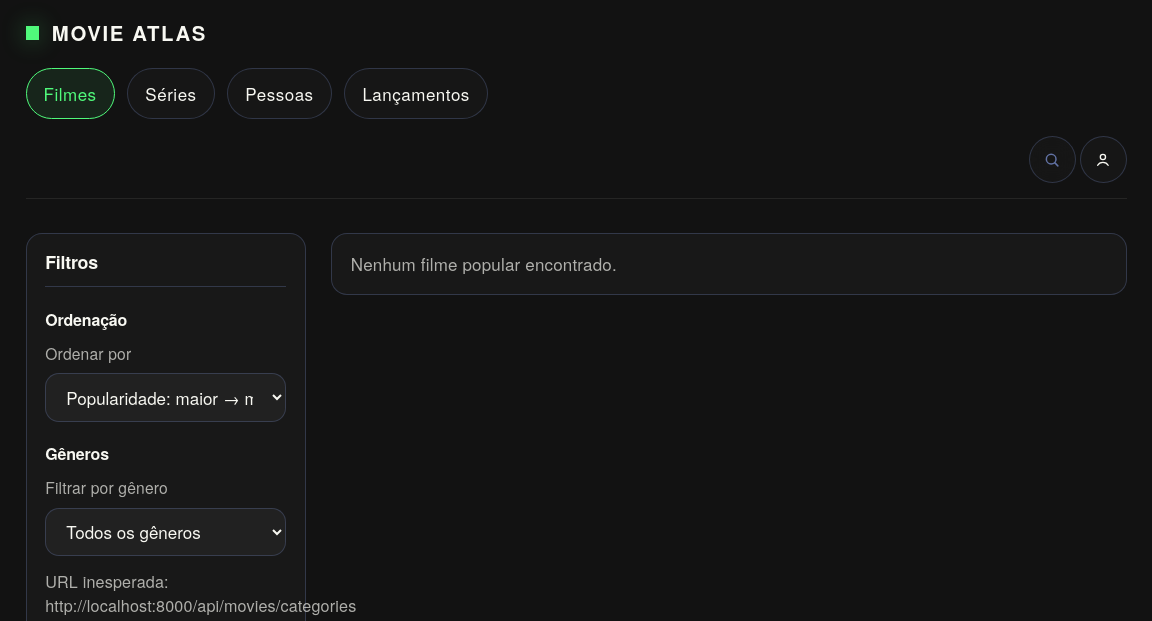
Scenario: App routes › logs in, loads the current user and allows sending verification email
The width and height of the screenshot is (1152, 621).
(page scrolled)
Click the button named "entrar ou criar conta" at (1103,160), box [1080,136,1127,183]
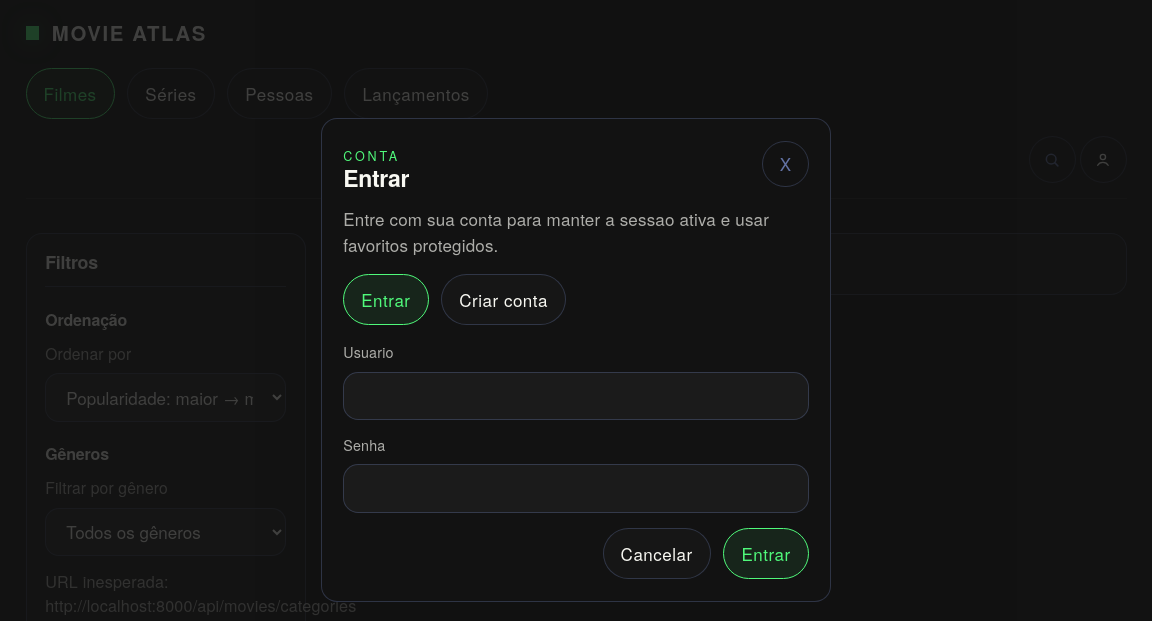
Type "moviefan" into the field labelled "Usuario" at (576,396), box [343,372,809,420]
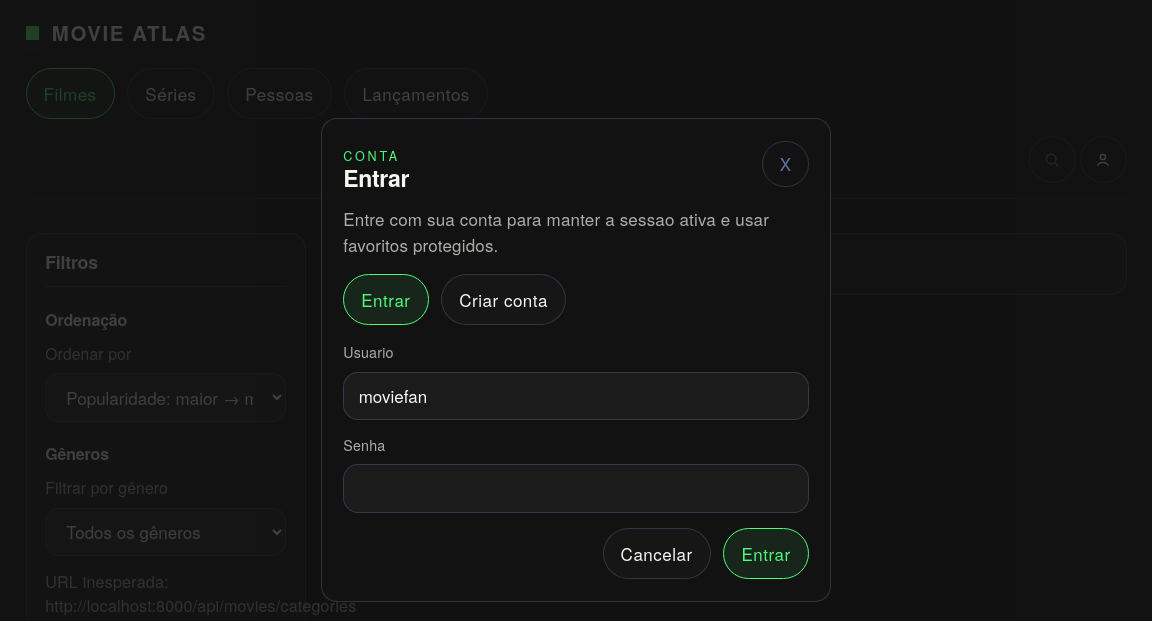
Type "strong-pass-123" into the password field labelled "Senha" at (576,488), box [343,464,809,513]
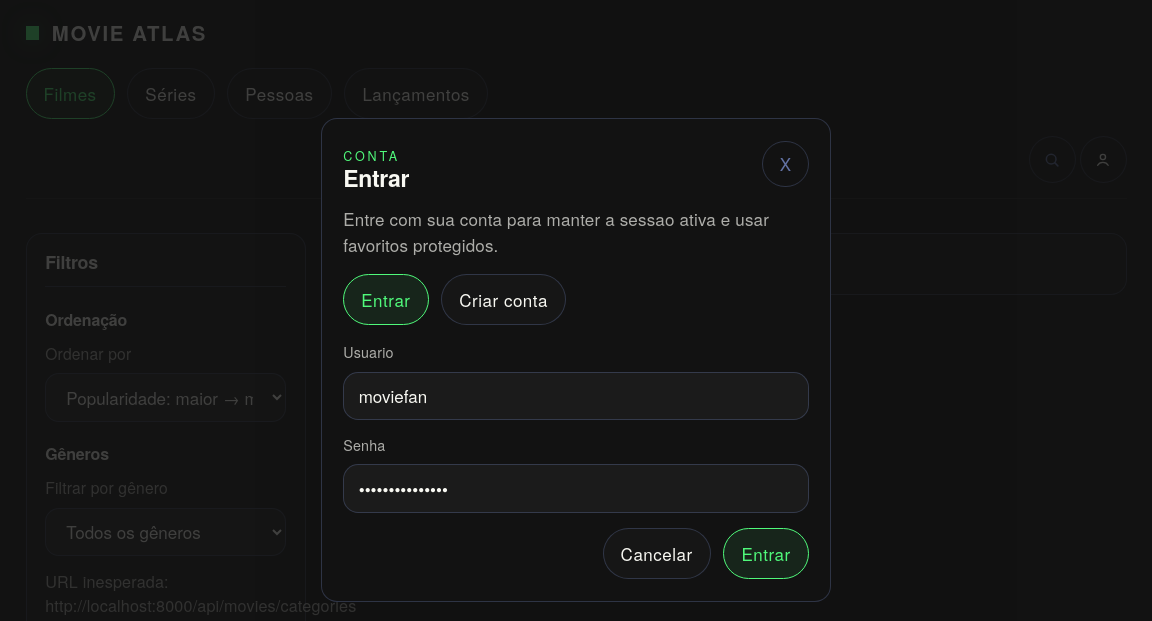
Click the button "Entrar" at (766,554), box [724,528,809,579]
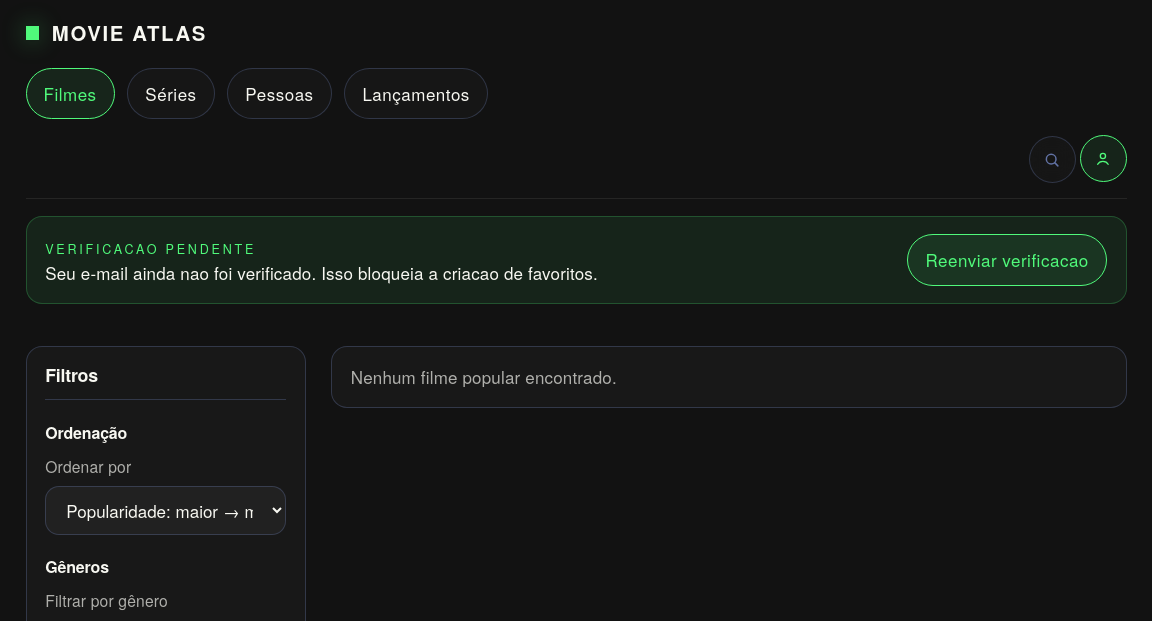
Check: the text "Seu e-mail ainda nao foi verificado" is shown, box [45,260,598,285]
Click the button "Reenviar verificacao" at (1007,260), box [907,234,1107,286]
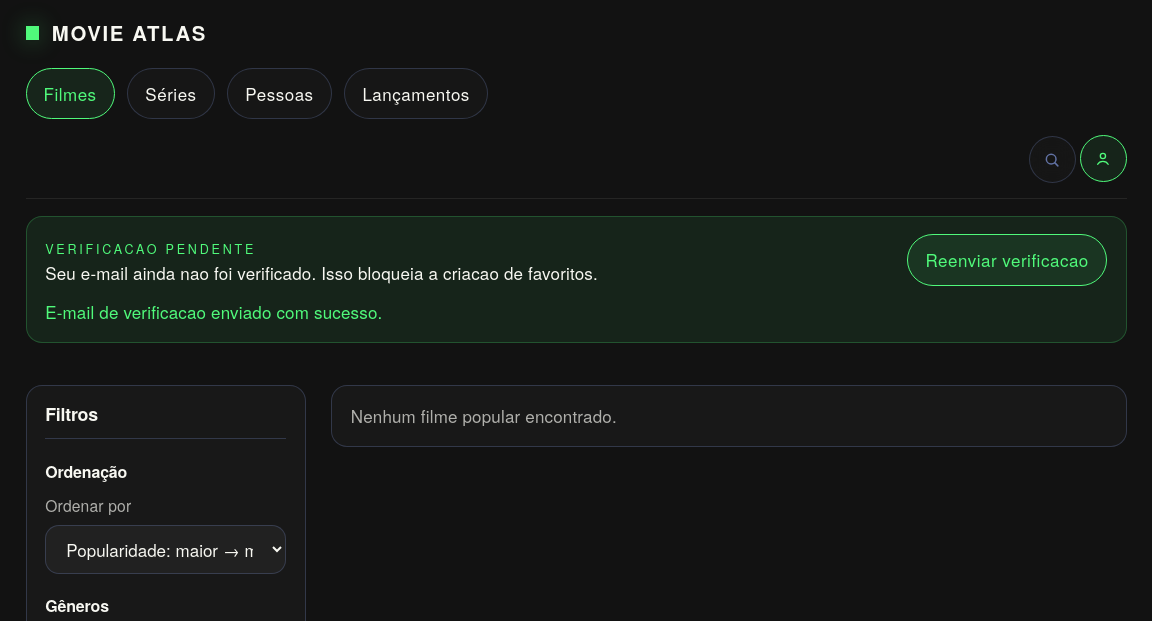
Check: the text "E-mail de verificacao enviado com sucesso." is shown, box [45,299,382,324]
